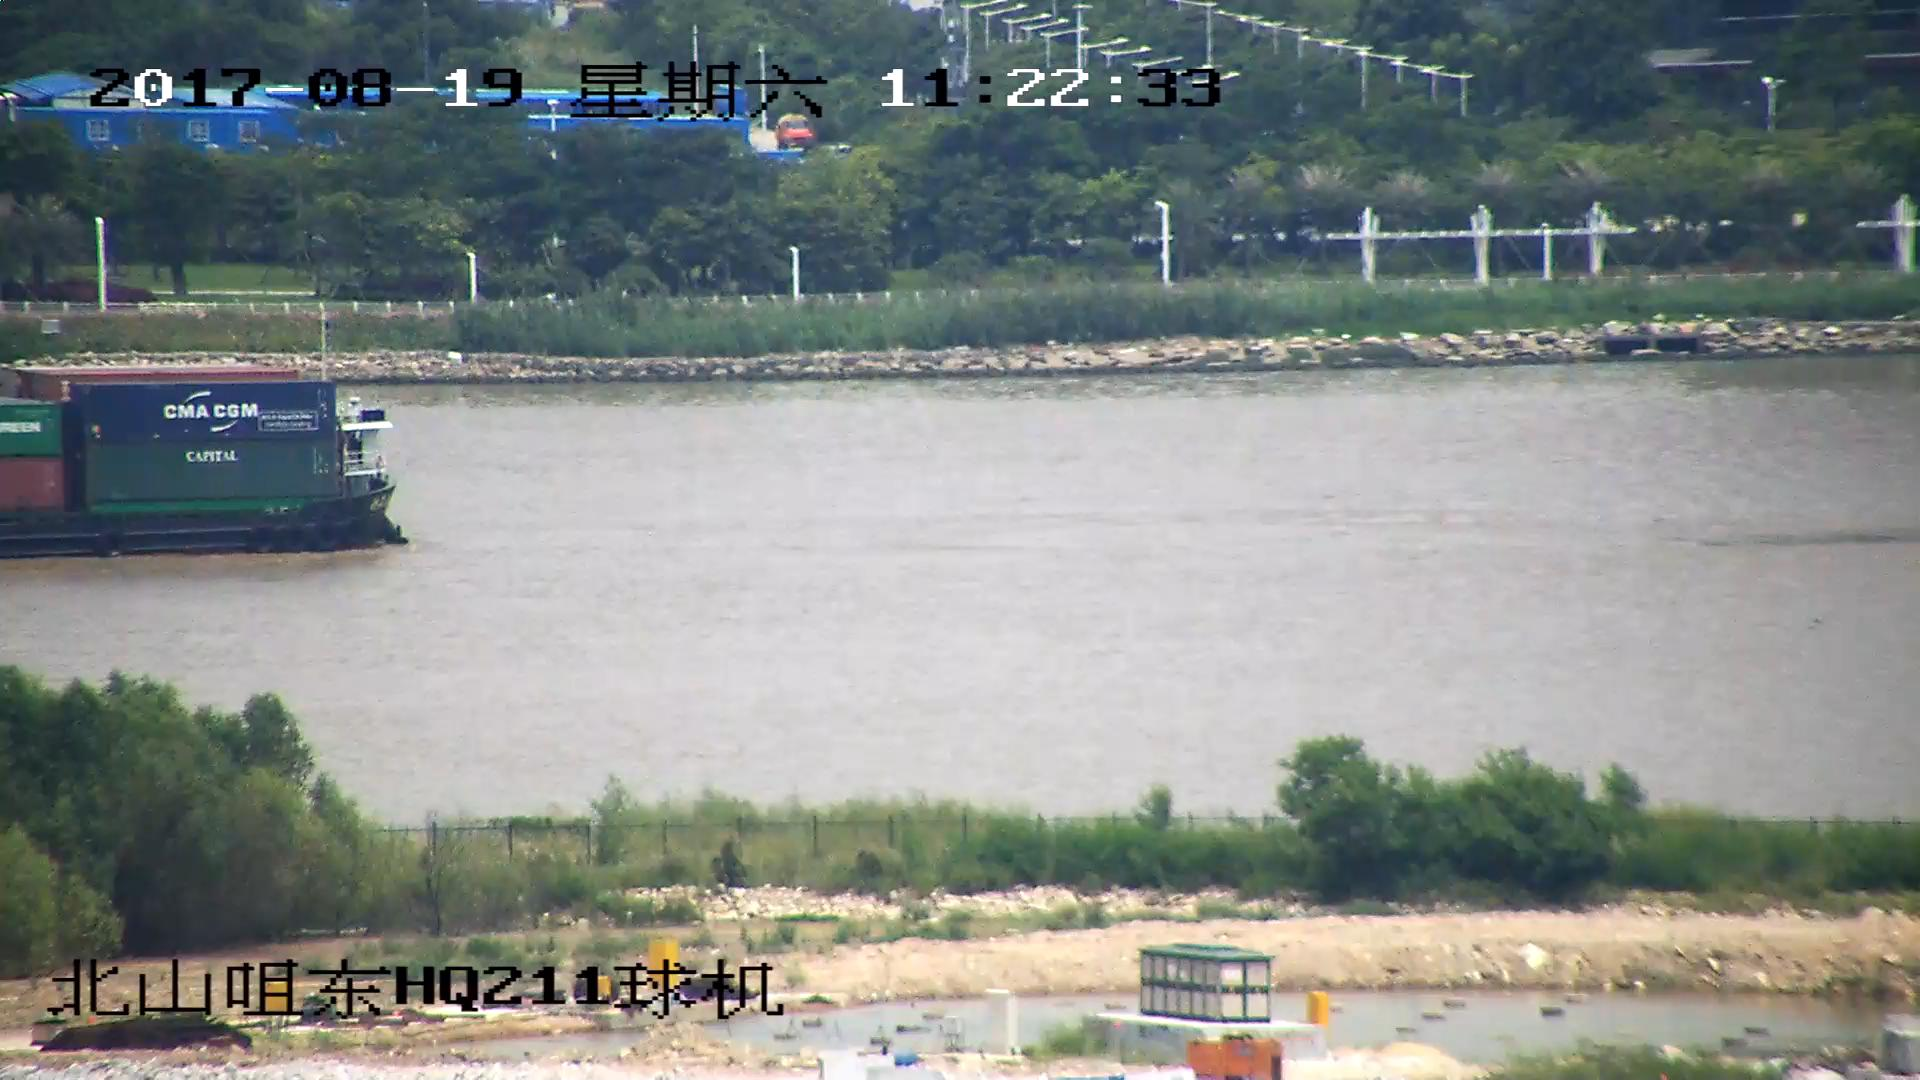container ship: (1, 370, 409, 554)
